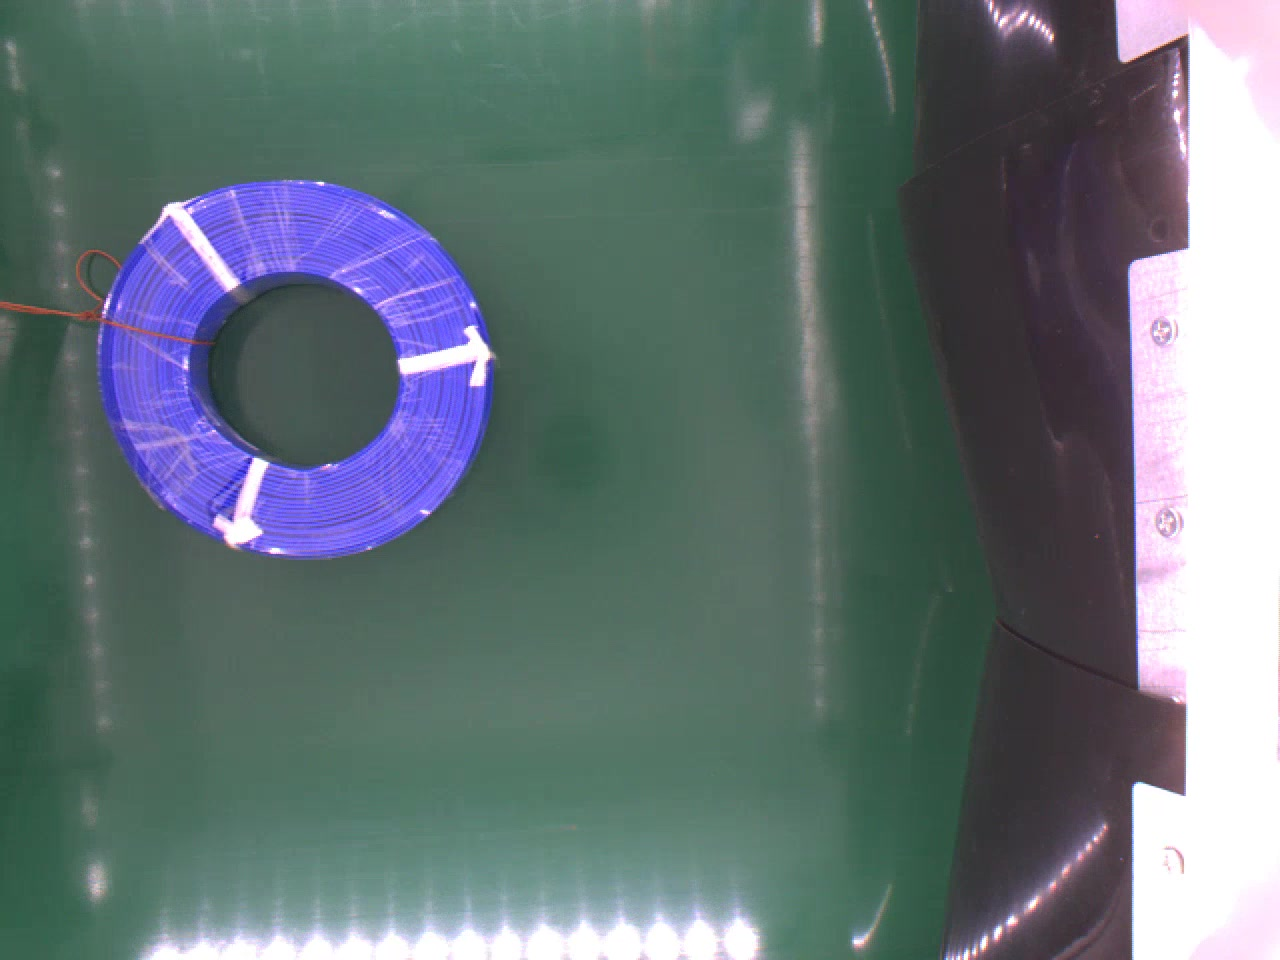blue: (97, 179, 489, 551)
